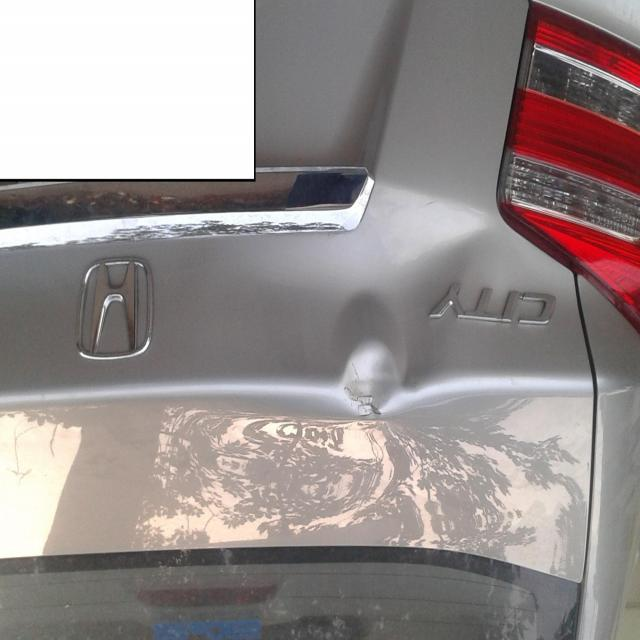dent: (312, 238, 436, 482)
